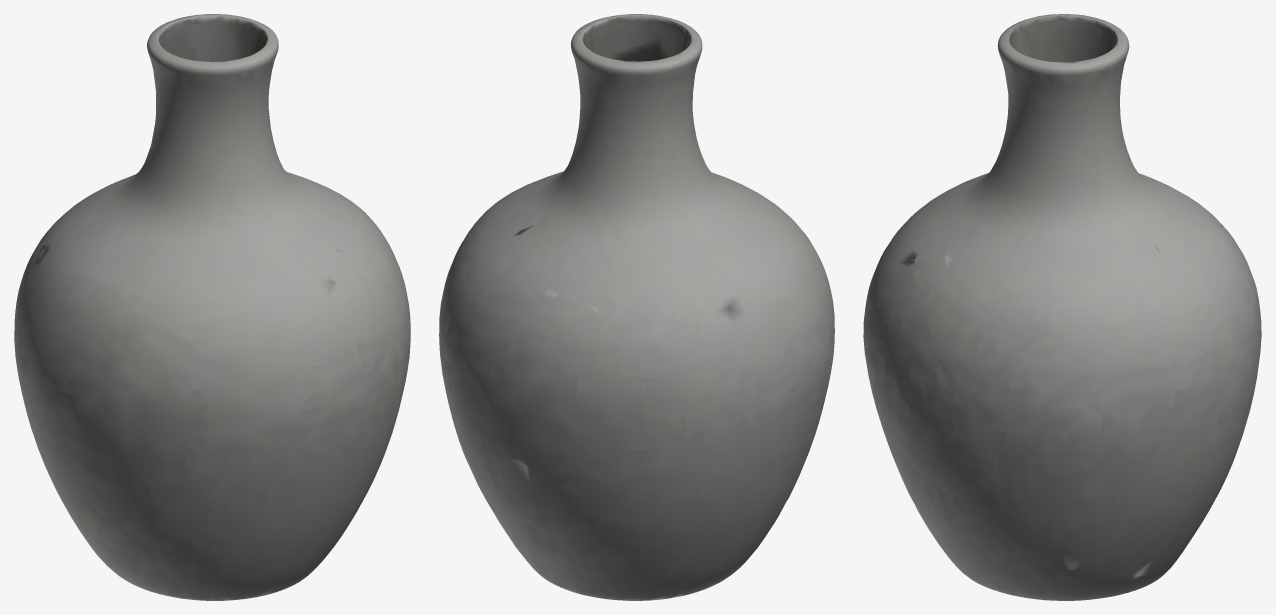
Rendered from fl-vase-bottle-ceramic.glb.
3 renders of one model, left to right at view 1: azimuth 30°, elevation 25°; view 2: azimuth 150°, elevation 25°; view 3: azimuth 270°, elevation 25°, orthographic.
Parts seen in each view (by area): view 1: node_0; view 2: node_0; view 3: node_0.
Boxes of the visible parts, bbox=[...] form: node_0: bbox=[14, 14, 410, 600]; node_0: bbox=[439, 14, 834, 600]; node_0: bbox=[863, 14, 1261, 600].
Bounding box in the file's own units: 0.7871 × 1.12 × 0.7794.
Materials: 1 (1 with a texture image).
